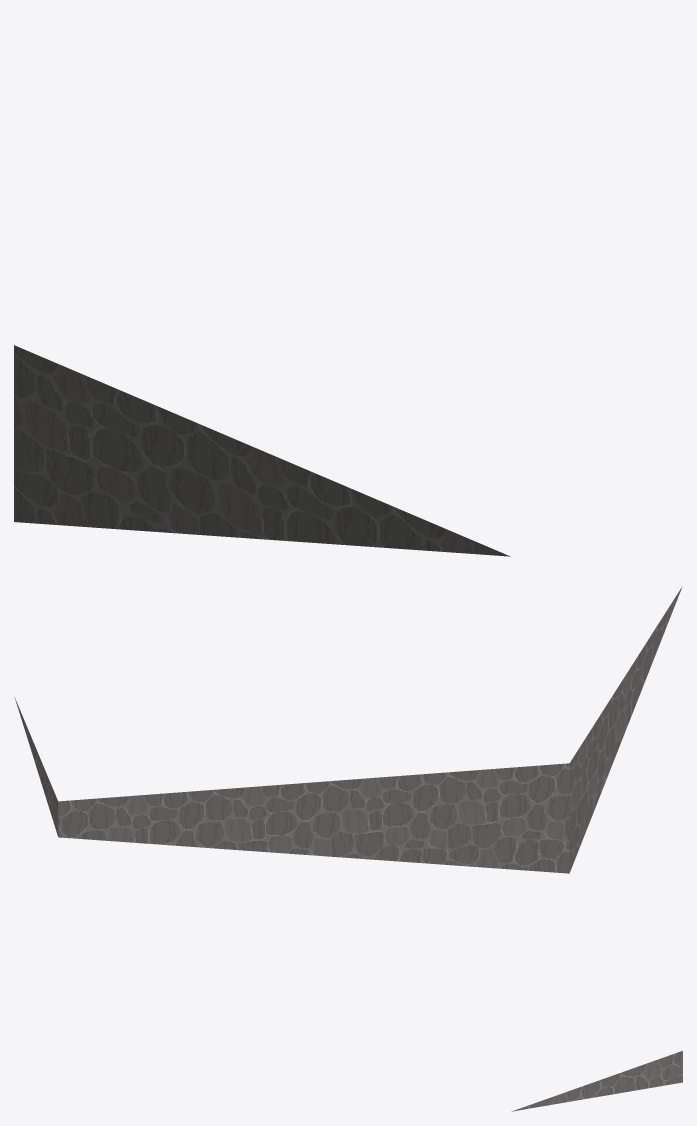
The model's file is kd_stage_135ebf_2_38.glb.
3 renders of one model, top to bottom at view 1: azimuth 30°, elevation 25°; view 2: azimuth 150°, elevation 25°; view 3: azimuth 270°, elevation 25°, orthographic. The views are drawn at different scales.
Parts seen in each view (by area): view 1: kd_stage_135ebf_2_38; view 2: kd_stage_135ebf_2_38; view 3: kd_stage_135ebf_2_38.
Boxes of the visible parts, x1,y1,x2,y2 form: kd_stage_135ebf_2_38: (14, 345, 510, 556); kd_stage_135ebf_2_38: (14, 586, 682, 873); kd_stage_135ebf_2_38: (511, 1051, 682, 1111).
Bounding box in the file's own units: 7.25 × 1.57 × 9.78.
1 material, 1 textured.
